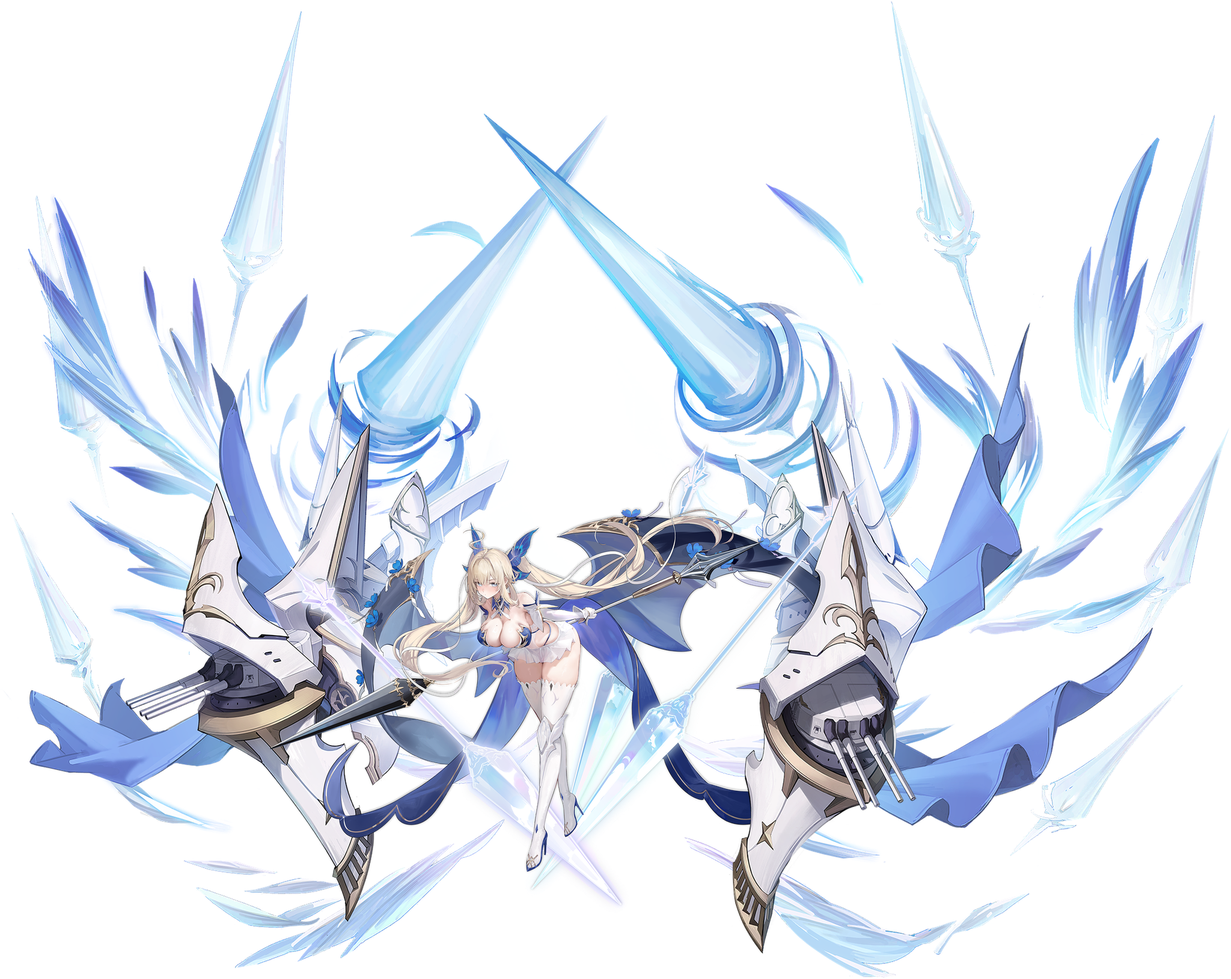person: (319, 492, 633, 928)
